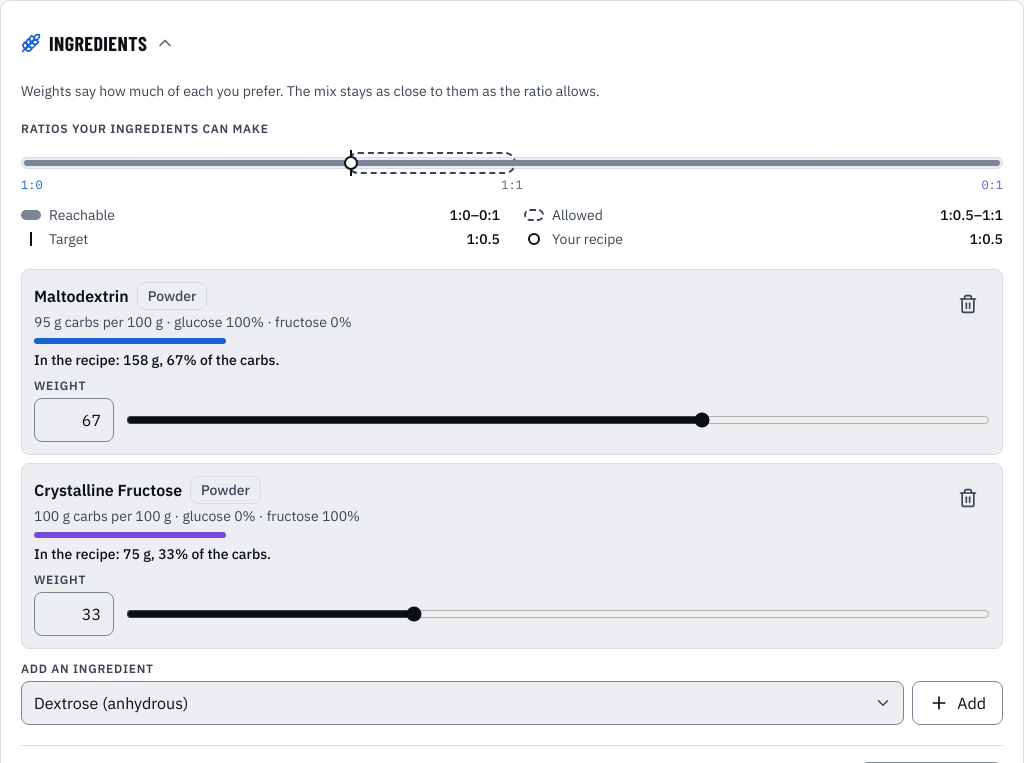
Test: IngredientsSection: layout › is a collapsible region with a summary while closed
Check: the heading "Ingredients" is shown, box [21,21,175,65]
Check: the text "Maltodextrin and Crystalline Fructose · recipe 1:0.5" is not shown
What coordinates should you click on to do the following:
click the button "Ingredients"
I would click on:
 (98, 43)
Its box is [17,21,179,65].
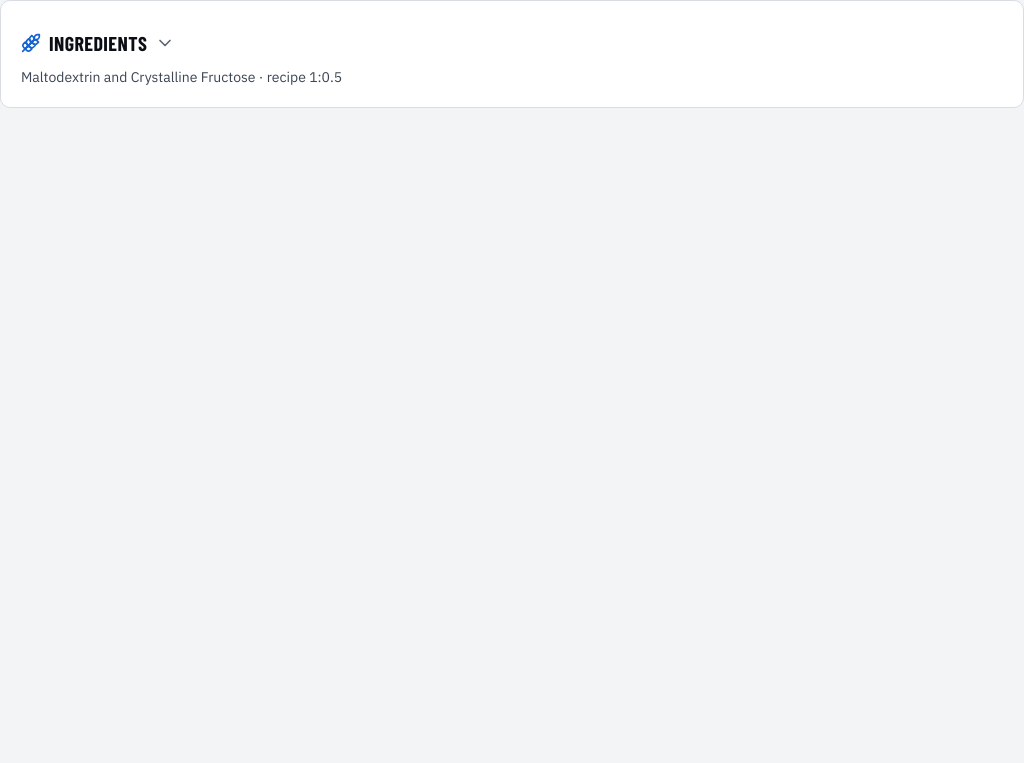
Check: the button "Ingredients" is collapsed, box [17,21,179,65]
Check: the text "Maltodextrin and Crystalline Fructose · recipe 1:0.5" is shown, box [21,68,342,86]
